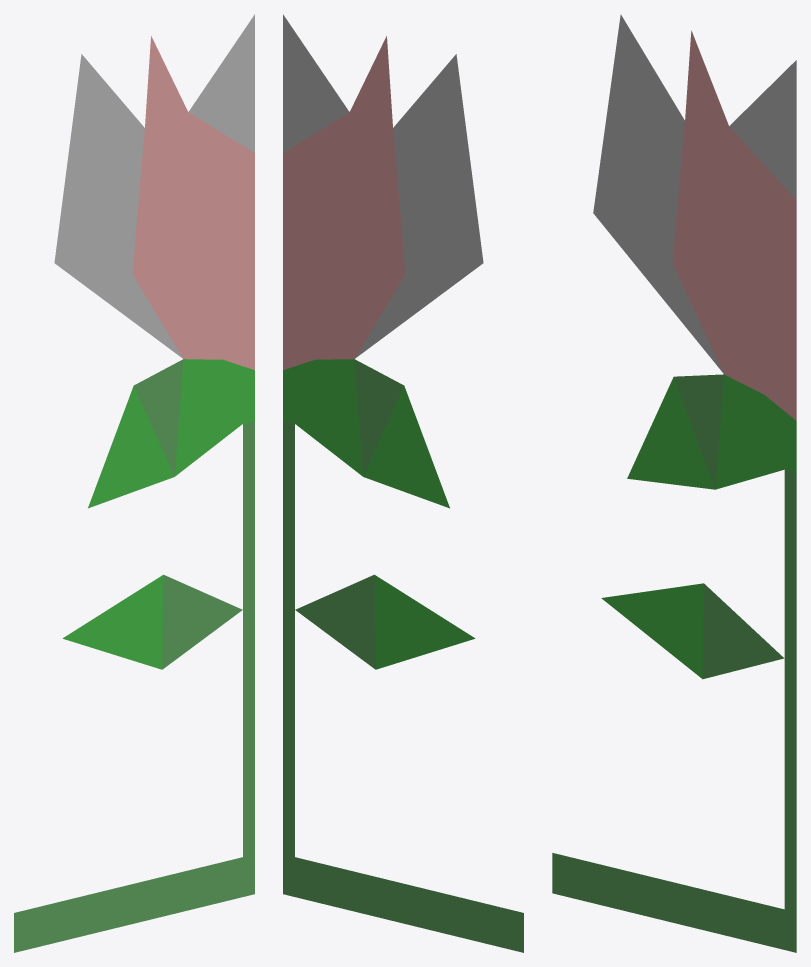
File: flor6b.obj
3 renders of one model, left to right at view 1: azimuth 30°, elevation 25°; view 2: azimuth 150°, elevation 25°; view 3: azimuth 330°, elevation 25°, orthographic.
Size of the model in its own units: 0.5 by 1.75 by 0.
